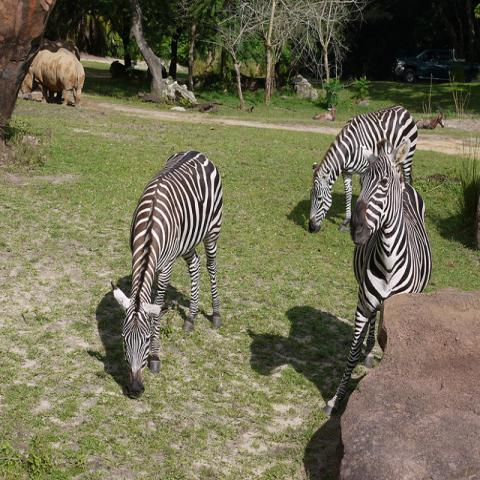truck: (392, 48, 480, 84)
